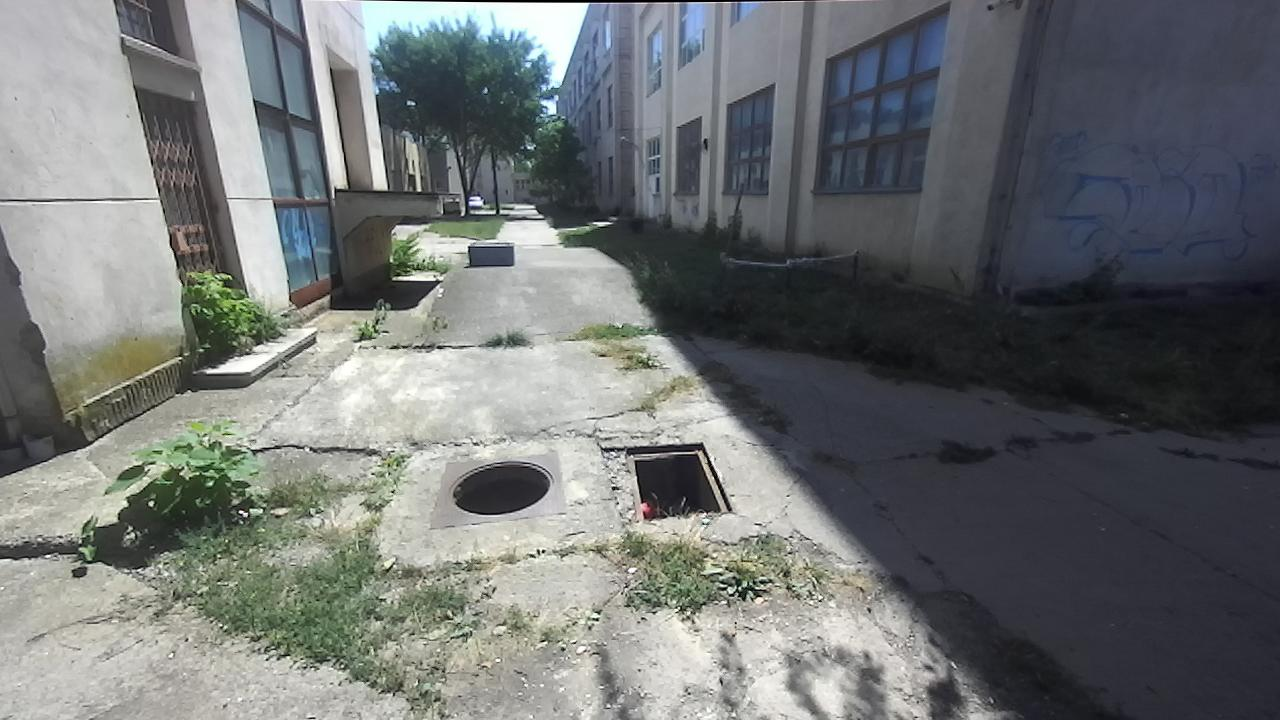drain: (601, 446, 736, 523), (450, 461, 554, 516)
